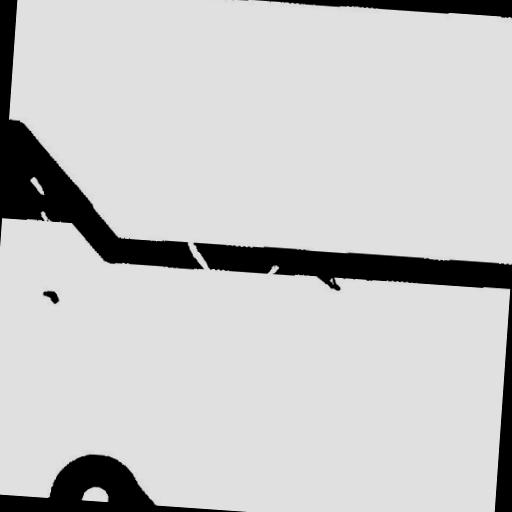copper: (34, 282, 67, 312)
mousebite: (258, 256, 287, 285), (32, 202, 59, 230)
open: (178, 230, 220, 280)
pin-hole: (21, 168, 54, 203)
spur: (307, 264, 349, 298)
